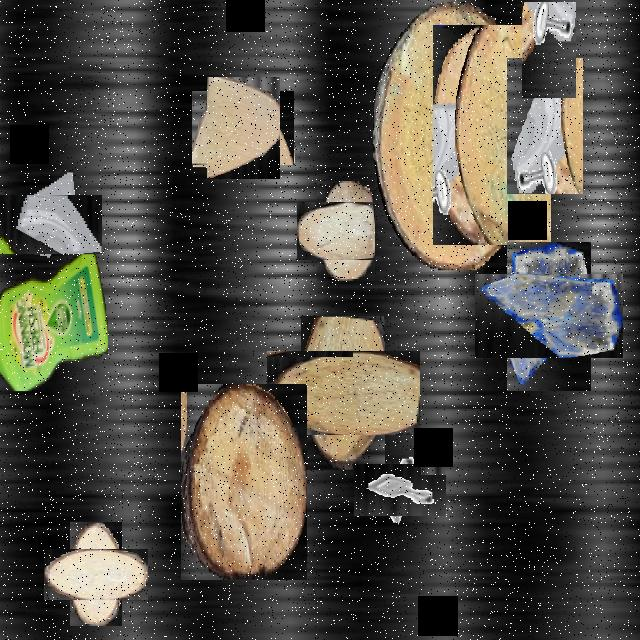glass: (491, 258, 607, 375), (507, 58, 583, 194), (4, 183, 90, 269)
metal: (364, 454, 436, 527), (522, 2, 576, 98)
plastic: (0, 254, 108, 390)
wood: (373, 2, 529, 268), (433, 25, 551, 245), (181, 384, 307, 580), (284, 334, 402, 452), (199, 84, 287, 172), (306, 192, 386, 270), (57, 535, 135, 613)
